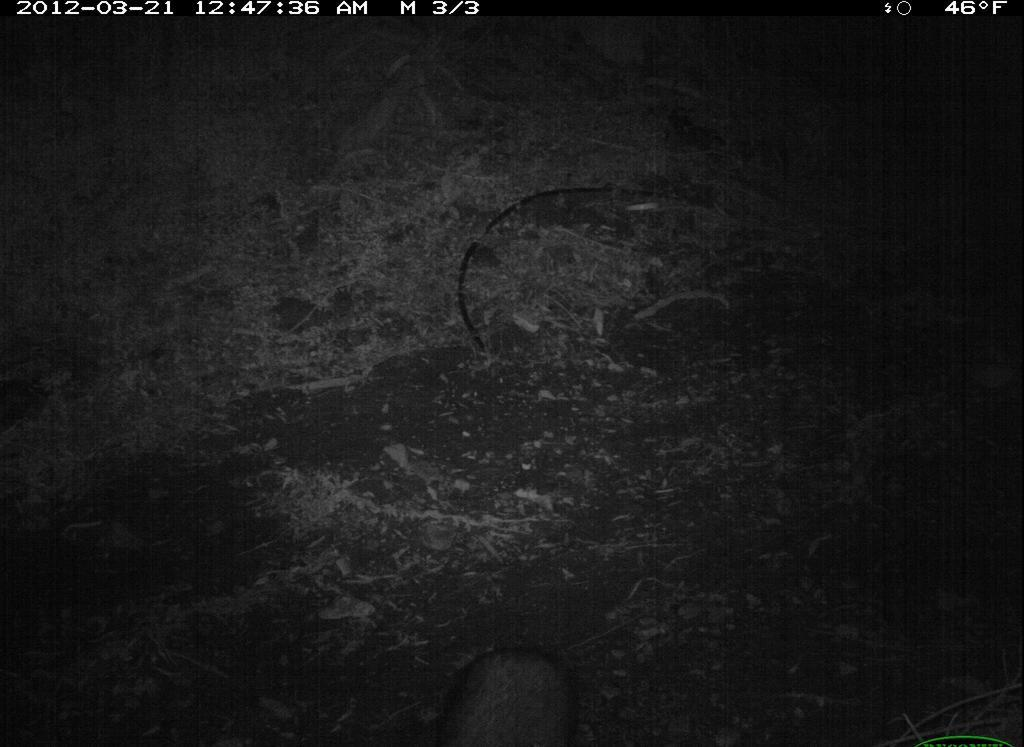raccoon: (420, 639, 592, 747)
